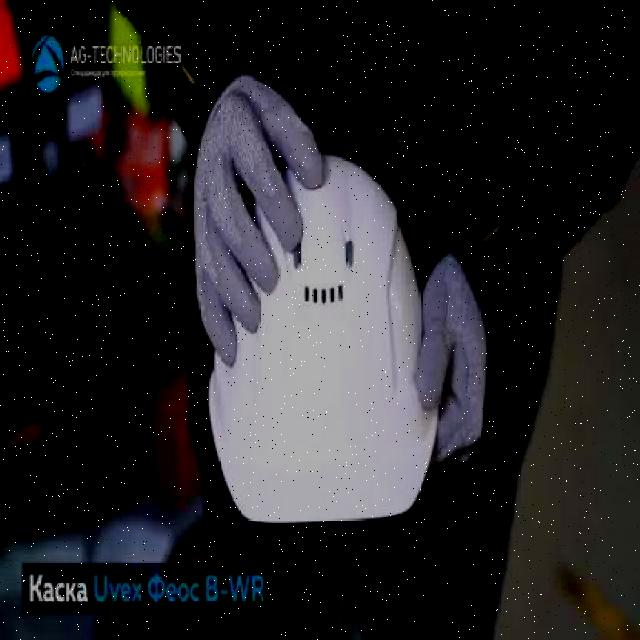Gloves: (192, 69, 326, 368), (413, 248, 490, 470)
Helmet: (206, 153, 440, 522)
